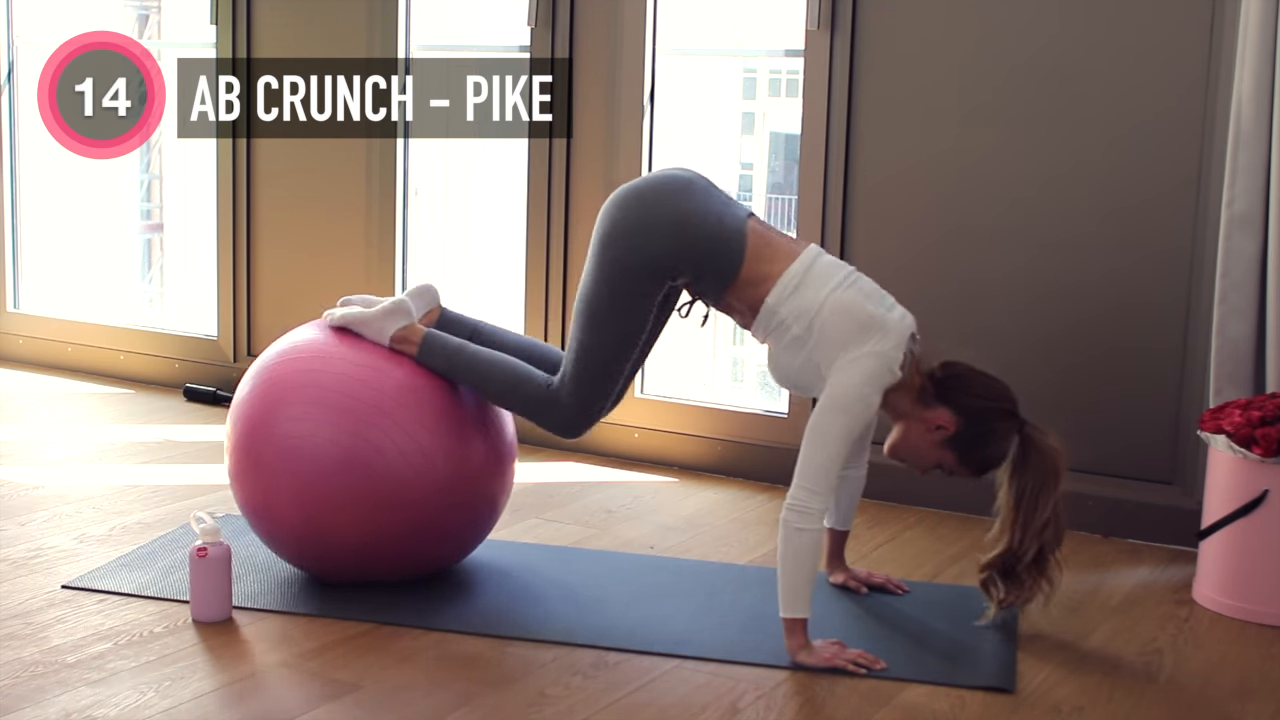yogaball: (221, 316, 527, 589)
